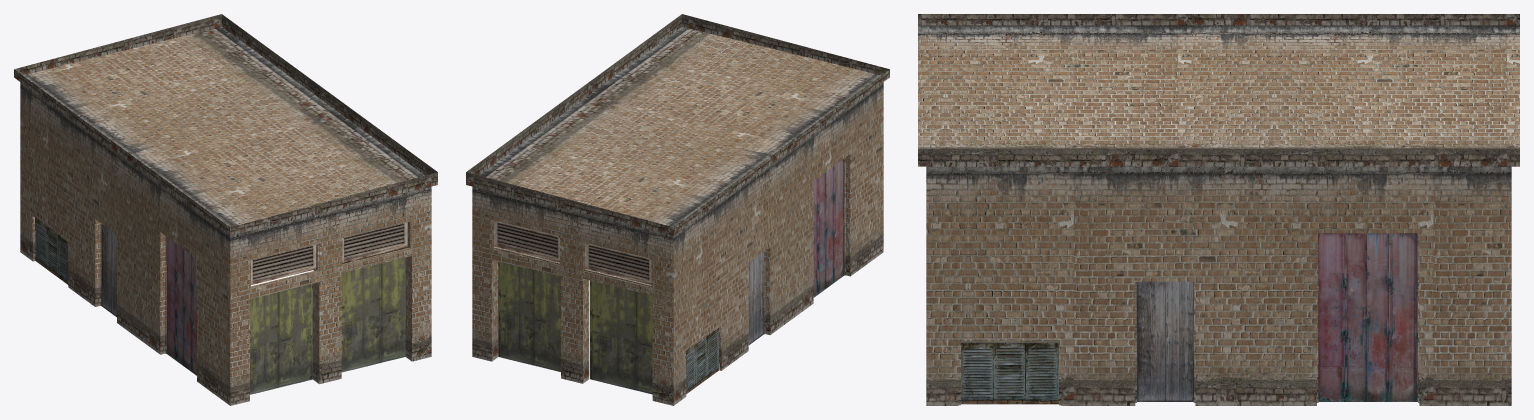
The model's file is Warehouse.fbx.
3 renders of one model, left to right at view 1: azimuth 30°, elevation 25°; view 2: azimuth 150°, elevation 25°; view 3: azimuth 270°, elevation 25°, orthographic. The views are drawn at different scales.
Parts seen in each view (by area): view 1: Warehouse; view 2: Warehouse; view 3: Warehouse.
Part boxes in pixels (x1,y1,x2,y2): Warehouse: (14, 14, 437, 405); Warehouse: (466, 14, 889, 405); Warehouse: (918, 14, 1519, 405).
Bounding box in the file's own units: 657 × 562 × 1183.
